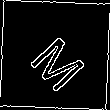M_NE: (21, 21, 89, 89)
